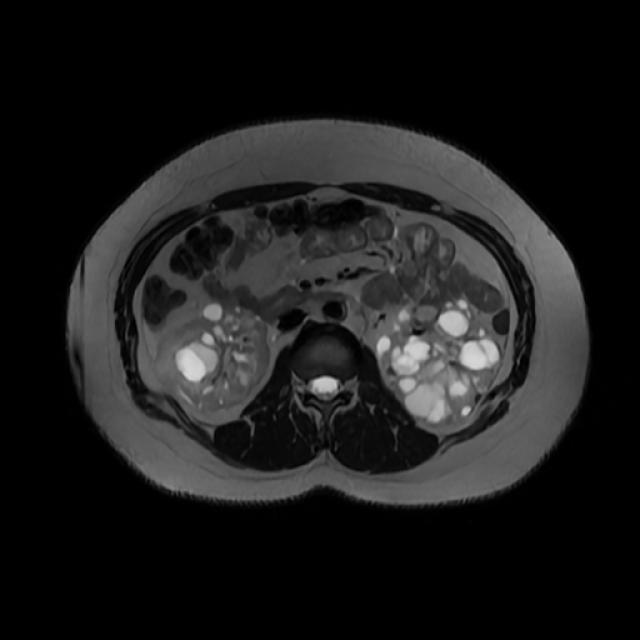sag: (153, 303, 269, 411)
sol: (374, 299, 505, 428)
